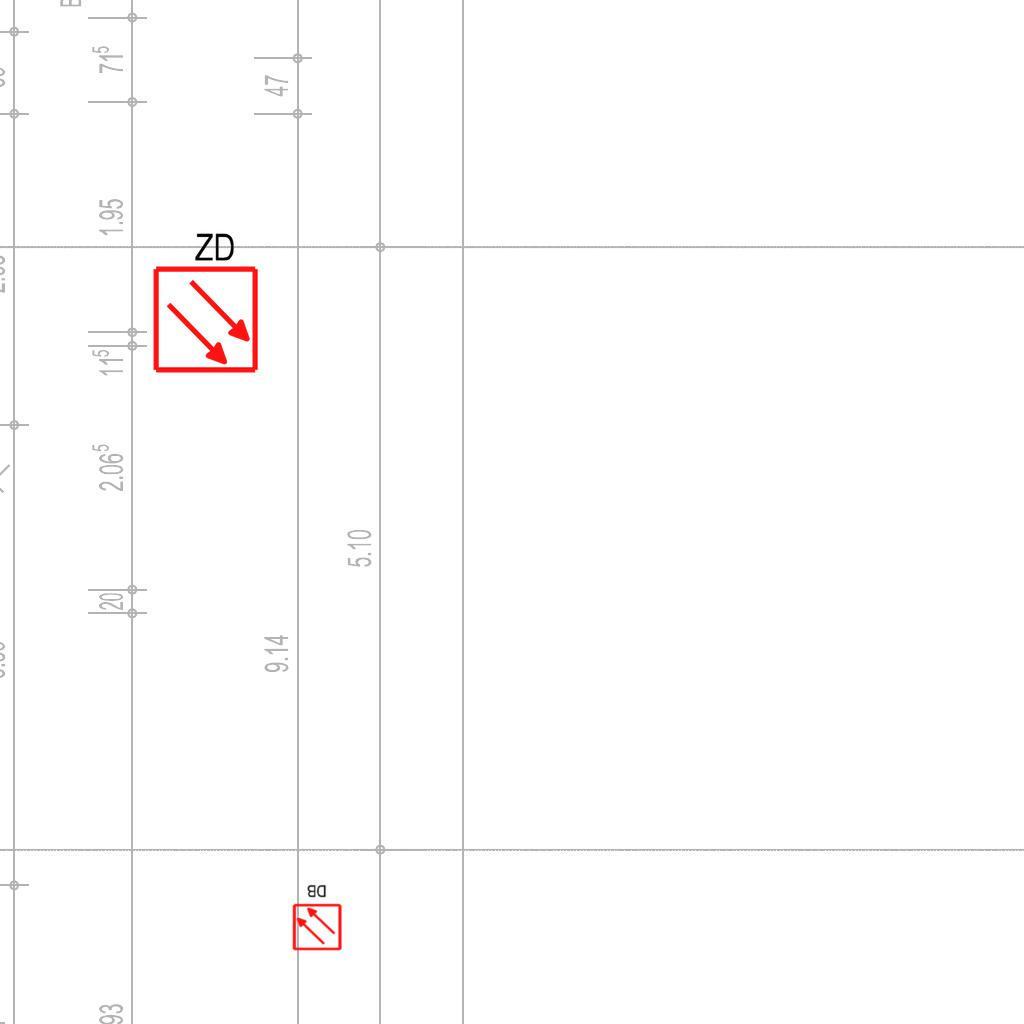DB_Melder_in_Doppelboden_mit_Revisionsoeffnung_mind_40_x_40_cm: (288, 880, 345, 954)
ZD_Melder_in_Zwischendecke_mit_Revisionsoeffnung_mind_40_x_40_cm: (147, 226, 261, 375)
